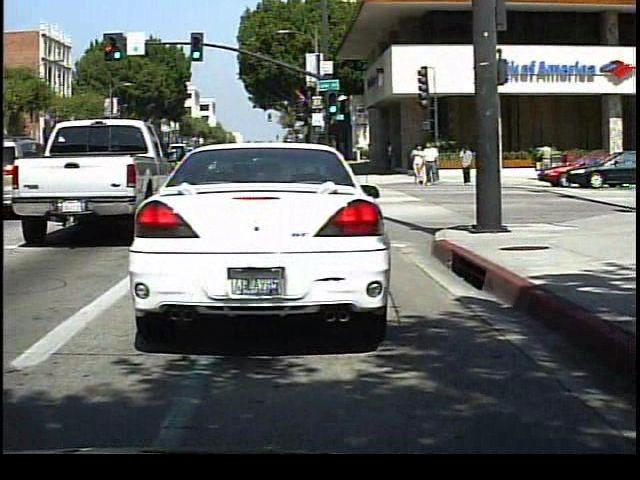person: (422, 138, 443, 187), (534, 139, 556, 182), (457, 141, 476, 186), (410, 142, 427, 187)
